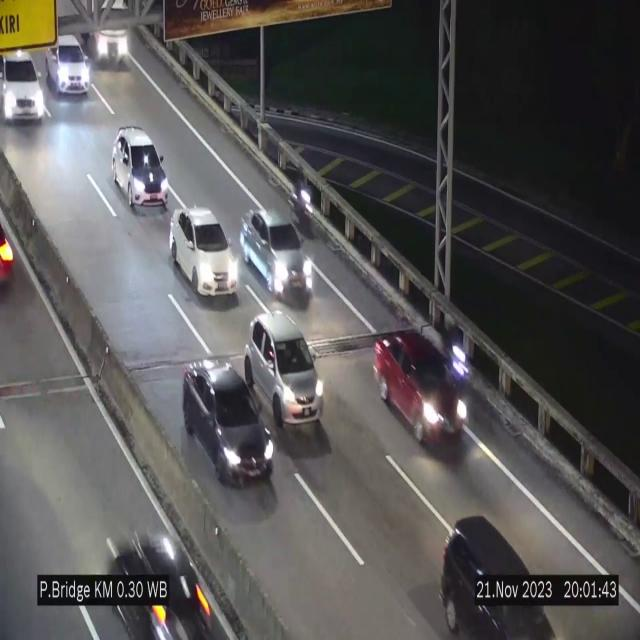Car: (98, 514, 219, 640), (443, 510, 559, 640), (182, 359, 276, 482), (377, 332, 469, 452), (245, 309, 323, 427), (240, 210, 312, 304), (170, 207, 238, 298), (113, 126, 168, 213), (0, 47, 53, 129), (52, 38, 94, 103)
Motorcycle: (447, 322, 473, 397), (291, 163, 316, 234)
Truck: (81, 0, 133, 65)
